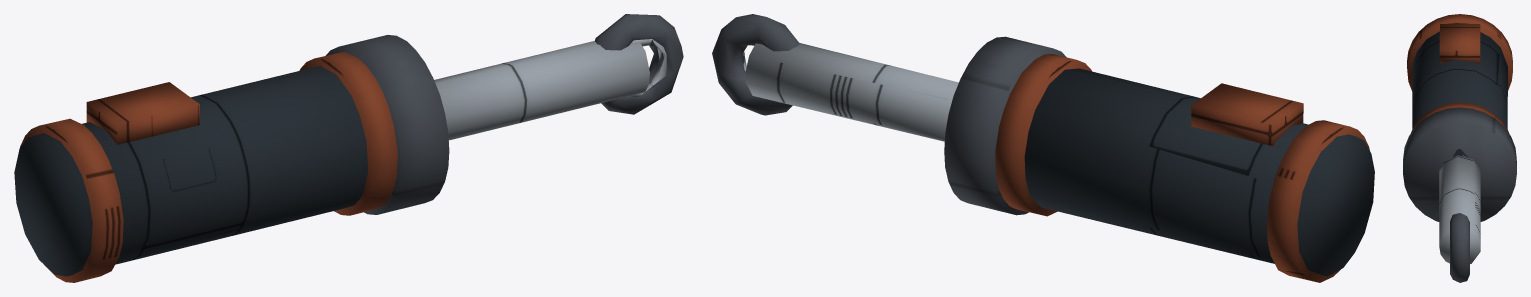
File: ops_piston_ram_lod2.glb
The picture shows the model from 3 angles, left to right: view 1: azimuth 30°, elevation 25°; view 2: azimuth 150°, elevation 25°; view 3: azimuth 270°, elevation 25°; orthographic projection. The views are drawn at different scales.
Visible parts, largest first — view 1: LOD2_Armor, LOD2_Hull, LOD2_MOTION_RAM_EXTENSION_BrushedMetal, LOD2_Mechanical, LOD2_MOTION_RAM_EXTENSION_Mechanical; view 2: LOD2_Armor, LOD2_Hull, LOD2_MOTION_RAM_EXTENSION_BrushedMetal, LOD2_Mechanical, LOD2_MOTION_RAM_EXTENSION_Mechanical; view 3: LOD2_Mechanical, LOD2_Armor, LOD2_Hull, LOD2_MOTION_RAM_EXTENSION_BrushedMetal, LOD2_MOTION_RAM_EXTENSION_Mechanical.
Boxes of the visible parts, x1=… form: LOD2_Armor: x1=14, y1=66, x2=367, y2=276; LOD2_Hull: x1=20, y1=51, x2=397, y2=282; LOD2_MOTION_RAM_EXTENSION_BrushedMetal: x1=434, y1=39, x2=666, y2=140; LOD2_Mechanical: x1=325, y1=35, x2=449, y2=214; LOD2_MOTION_RAM_EXTENSION_Mechanical: x1=595, y1=14, x2=683, y2=114; LOD2_Armor: x1=1024, y1=68, x2=1374, y2=276; LOD2_Hull: x1=995, y1=54, x2=1369, y2=282; LOD2_MOTION_RAM_EXTENSION_BrushedMetal: x1=743, y1=43, x2=958, y2=141; LOD2_Mechanical: x1=944, y1=36, x2=1066, y2=215; LOD2_MOTION_RAM_EXTENSION_Mechanical: x1=712, y1=14, x2=799, y2=115; LOD2_Mechanical: x1=1403, y1=107, x2=1516, y2=221; LOD2_Armor: x1=1412, y1=31, x2=1507, y2=128; LOD2_Hull: x1=1407, y1=14, x2=1512, y2=133; LOD2_MOTION_RAM_EXTENSION_BrushedMetal: x1=1439, y1=155, x2=1480, y2=263; LOD2_MOTION_RAM_EXTENSION_Mechanical: x1=1450, y1=213, x2=1469, y2=282.
Size of the model in its own units: 3.19 by 0.7637 by 0.7556.
Materials: 5 (5 with a texture image).
